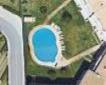pool: (31, 26, 60, 64)
